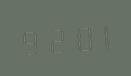nine: (18, 23, 40, 57)
one: (87, 18, 109, 52)
two: (41, 21, 63, 56)
zero: (64, 20, 86, 54)
